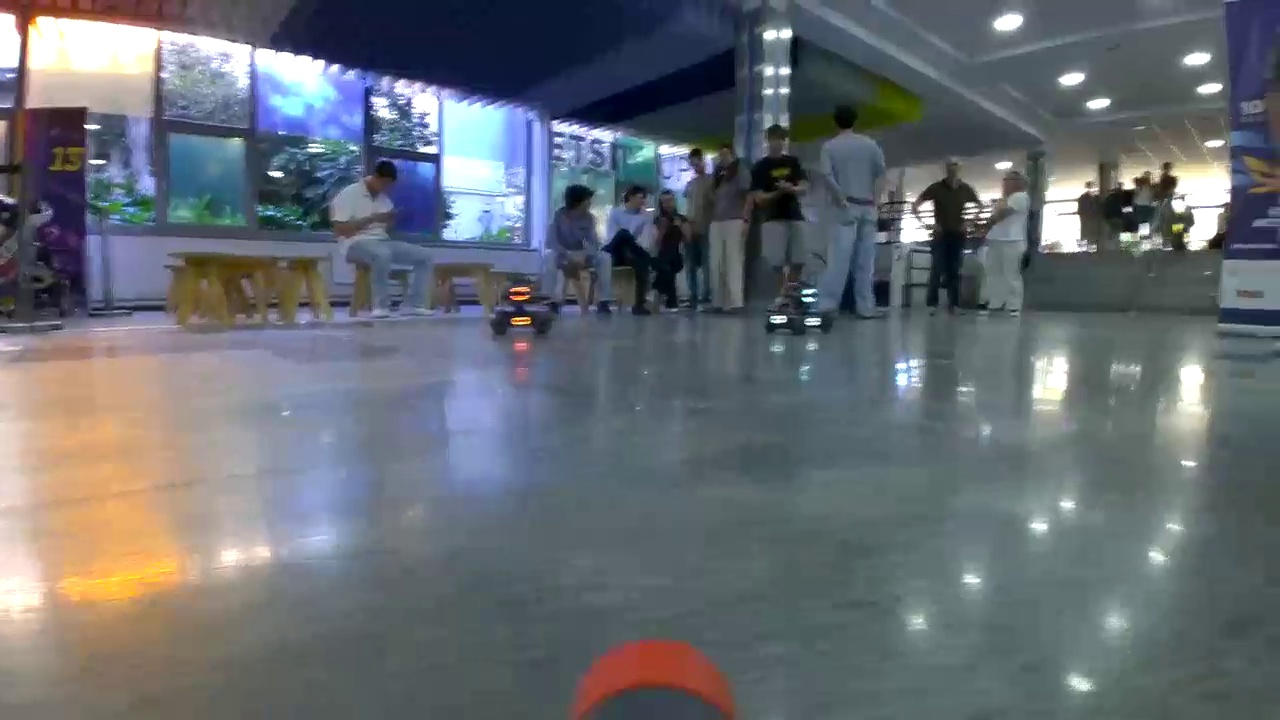robot: (763, 282, 835, 335), (488, 280, 556, 335)
